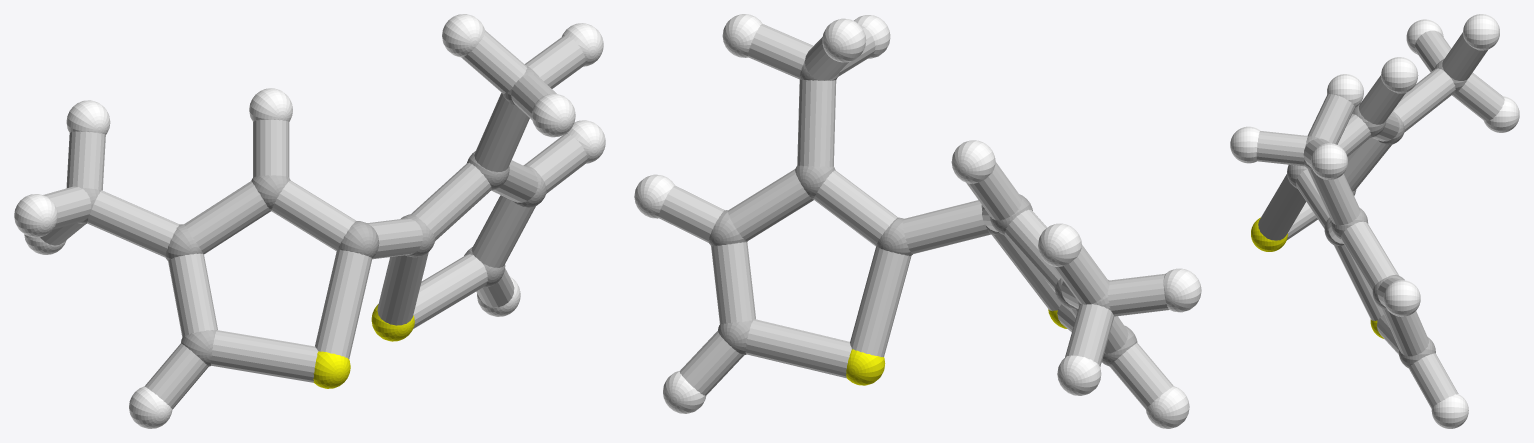
The model's file is Methylthiophene_Phi_60_Theta_240_Methylthiophene.glb.
3 renders of one model, left to right at view 1: azimuth 30°, elevation 25°; view 2: azimuth 150°, elevation 25°; view 3: azimuth 270°, elevation 25°, orthographic. The views are drawn at different scales.
Visible parts, largest first — view 1: grp7965, grp3621, grp1, grp7241; view 2: grp7965, grp3621, grp1, grp7241; view 3: grp7965, grp3621, grp1, grp7241.
Part boxes in pixels (bbox=[...]): grp7965: bbox=[40, 30, 587, 409]; grp3621: bbox=[14, 14, 605, 428]; grp1: bbox=[78, 66, 546, 366]; grp7241: bbox=[313, 304, 414, 388]; grp7965: bbox=[658, 24, 1173, 409]; grp3621: bbox=[634, 14, 1201, 428]; grp1: bbox=[708, 62, 1137, 366]; grp7241: bbox=[846, 309, 1066, 385]; grp7965: bbox=[1256, 30, 1504, 408]; grp3621: bbox=[1230, 14, 1519, 428]; grp1: bbox=[1287, 59, 1467, 368]; grp7241: bbox=[1251, 217, 1383, 338].
Bounding box in the file's own units: 9.04 × 5.55 × 4.67.
